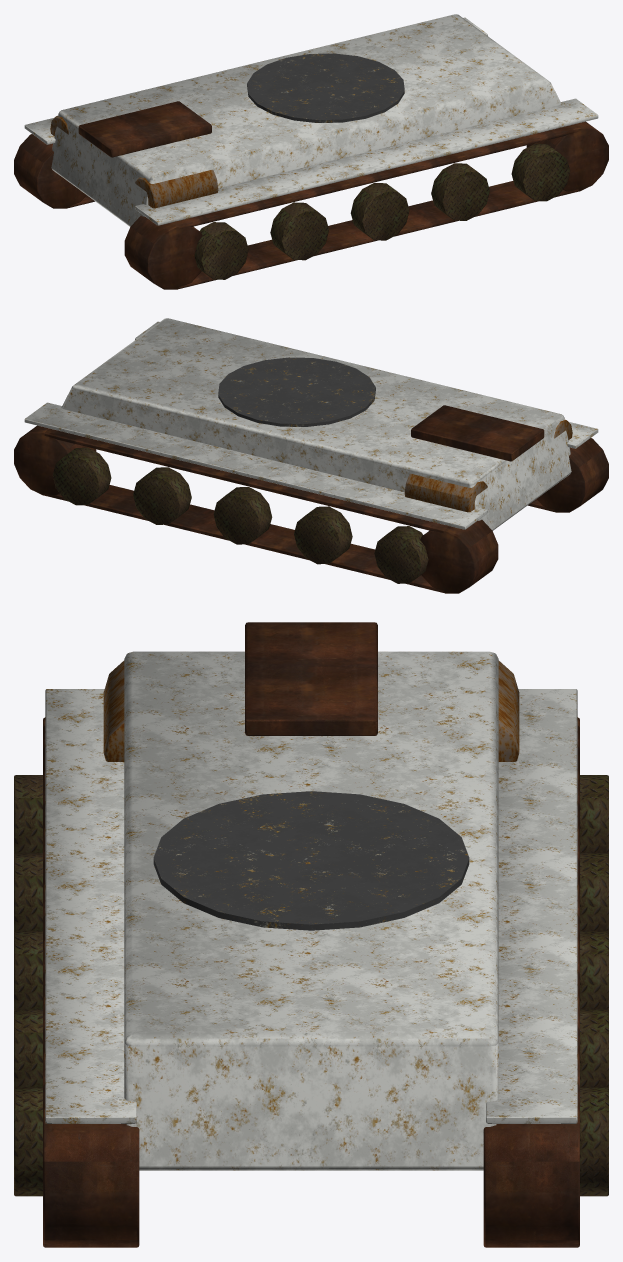
Rendered from veh_tank_turretless.gltf.
The picture shows the model from 3 angles, top to bottom: view 1: azimuth 30°, elevation 25°; view 2: azimuth 150°, elevation 25°; view 3: azimuth 270°, elevation 25°; orthographic projection. The views are drawn at different scales.
Visible parts, largest first — view 1: box.004, box.005, cyl.016, box, box.007, cyl, box.001, cyl.007, cyl.001, cyl.003, cyl.006, cyl.004 (+4 smaller); view 2: box.004, box.006, cyl.016, box.002, box.007, cyl.007, box.003, cyl, cyl.008, cyl.010, cyl.013, cyl.011 (+4 smaller); view 3: box.004, cyl.016, box.005, box.006, box.007, cyl.001, cyl.008, cyl.006, cyl.013, cyl.002, cyl.003, cyl.009 (+9 smaller).
Boxes of the visible parts, left/top/right/bottom form: box.004: left=51, top=14, right=561, bottom=226; box.005: left=135, top=98, right=598, bottom=225; cyl.016: left=247, top=53, right=404, bottom=122; box: left=179, top=181, right=578, bottom=288; box.007: left=78, top=101, right=211, bottom=157; cyl: left=124, top=215, right=202, bottom=289; box.001: left=173, top=124, right=578, bottom=228; cyl.007: left=14, top=134, right=86, bottom=208; cyl.001: left=526, top=121, right=608, bottom=191; cyl.003: left=270, top=202, right=328, bottom=260; cyl.006: left=511, top=143, right=570, bottom=201; cyl.004: left=350, top=183, right=409, bottom=240; box.004: left=61, top=318, right=571, bottom=530; box.006: left=24, top=402, right=487, bottom=529; cyl.016: left=218, top=357, right=375, bottom=426; box.002: left=44, top=485, right=443, bottom=592; box.007: left=411, top=405, right=544, bottom=461; cyl.007: left=420, top=519, right=498, bottom=593; box.003: left=44, top=428, right=449, bottom=532; cyl: left=536, top=438, right=608, bottom=512; cyl.008: left=14, top=425, right=96, bottom=495; cyl.010: left=294, top=506, right=352, bottom=564; cyl.013: left=52, top=447, right=111, bottom=505; cyl.011: left=213, top=487, right=272, bottom=544; box.004: left=124, top=651, right=498, bottom=1170; cyl.016: left=153, top=791, right=469, bottom=930; box.005: left=45, top=689, right=136, bottom=1123; box.006: left=486, top=689, right=577, bottom=1123; box.007: left=245, top=622, right=377, bottom=735; cyl.001: left=43, top=1114, right=139, bottom=1247; cyl.008: left=483, top=1114, right=579, bottom=1247; cyl.006: left=14, top=1087, right=42, bottom=1196; cyl.013: left=580, top=1087, right=608, bottom=1196; cyl.002: left=14, top=775, right=42, bottom=854; cyl.003: left=14, top=853, right=42, bottom=932; cyl.009: left=580, top=775, right=608, bottom=854.
Size of the model in its own units: 6.38 by 1.42 by 3.58.
5 materials, 5 textured.
